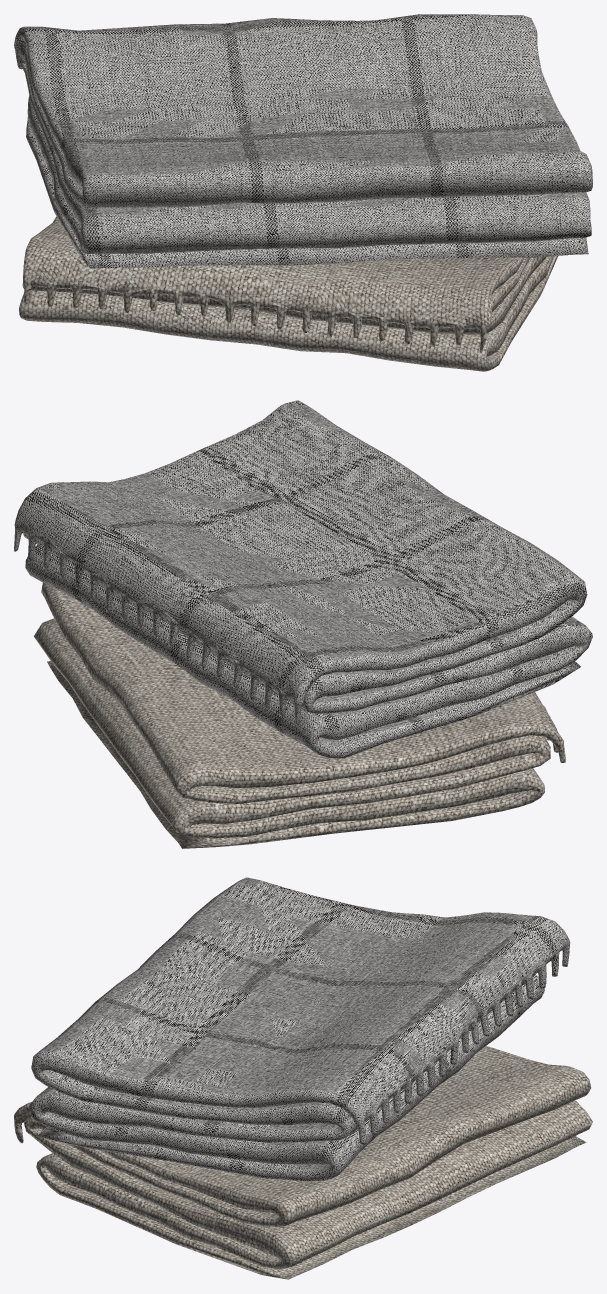
The model's file is w5-shelf-stack-set_14_042.glb.
The picture shows the model from 3 angles, top to bottom: view 1: azimuth 30°, elevation 25°; view 2: azimuth 150°, elevation 25°; view 3: azimuth 270°, elevation 25°; orthographic projection. The views are drawn at different scales.
Visible parts, largest first — view 1: Shelf_set_14_043, Shelf_set_14_042; view 2: Shelf_set_14_043, Shelf_set_14_042; view 3: Shelf_set_14_043, Shelf_set_14_042.
Boxes of the visible parts, left/top/right/bottom form: Shelf_set_14_043: left=14, top=14, right=592, bottom=268; Shelf_set_14_042: left=19, top=216, right=557, bottom=371; Shelf_set_14_043: left=14, top=400, right=592, bottom=758; Shelf_set_14_042: left=34, top=583, right=565, bottom=848; Shelf_set_14_043: left=28, top=877, right=570, bottom=1181; Shelf_set_14_042: left=14, top=1046, right=592, bottom=1279.
Bounding box in the file's own units: 0.3755 × 0.1352 × 0.3773.
Materials: 2 (2 with a texture image).
